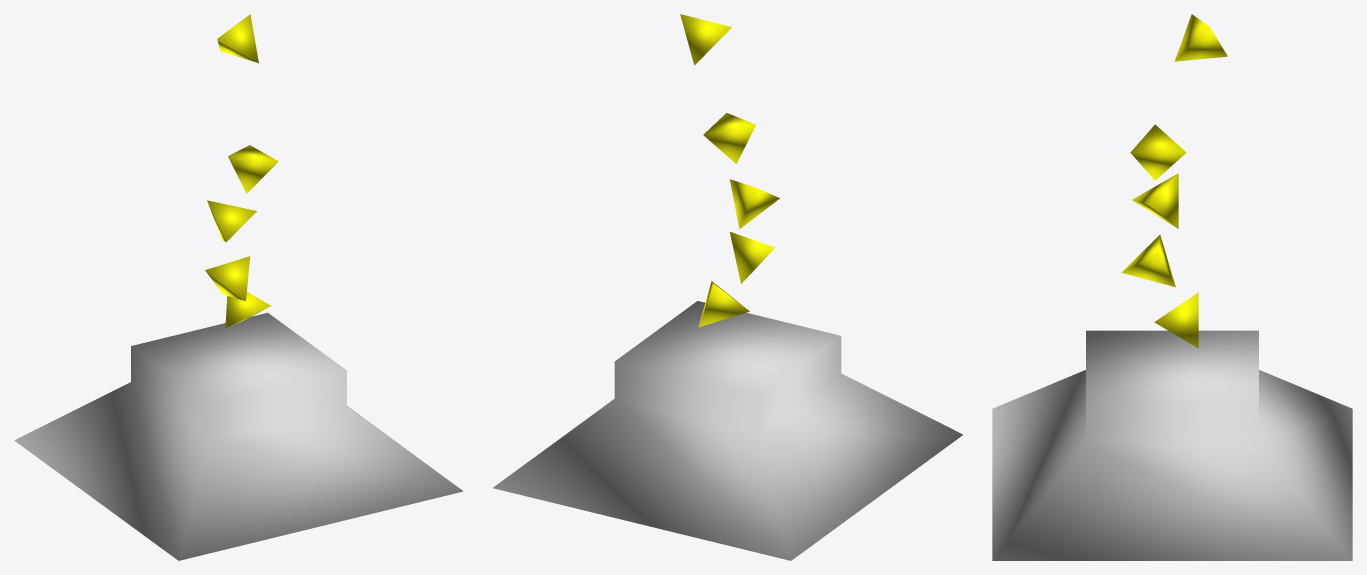
File: INVISIBLE_ZCPFXCONTROLER.glb
3 views of the same model, side by side, from view 1: azimuth 30°, elevation 25°; view 2: azimuth 150°, elevation 25°; view 3: azimuth 270°, elevation 25° (orthographic). The views are drawn at different scales.
Visible parts, largest first — view 1: Mesh; view 2: Mesh; view 3: Mesh.
Part boxes in pixels (x1=…): Mesh: x1=14, y1=14, x2=463, y2=560; Mesh: x1=493, y1=14, x2=962, y2=560; Mesh: x1=992, y1=14, x2=1352, y2=560.
Bounding box in the file's own units: 0.832 × 1.21 × 0.832.
